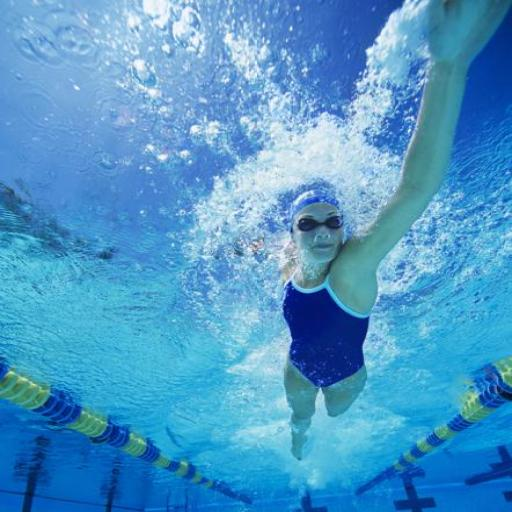swimming: (271, 0, 511, 464)
